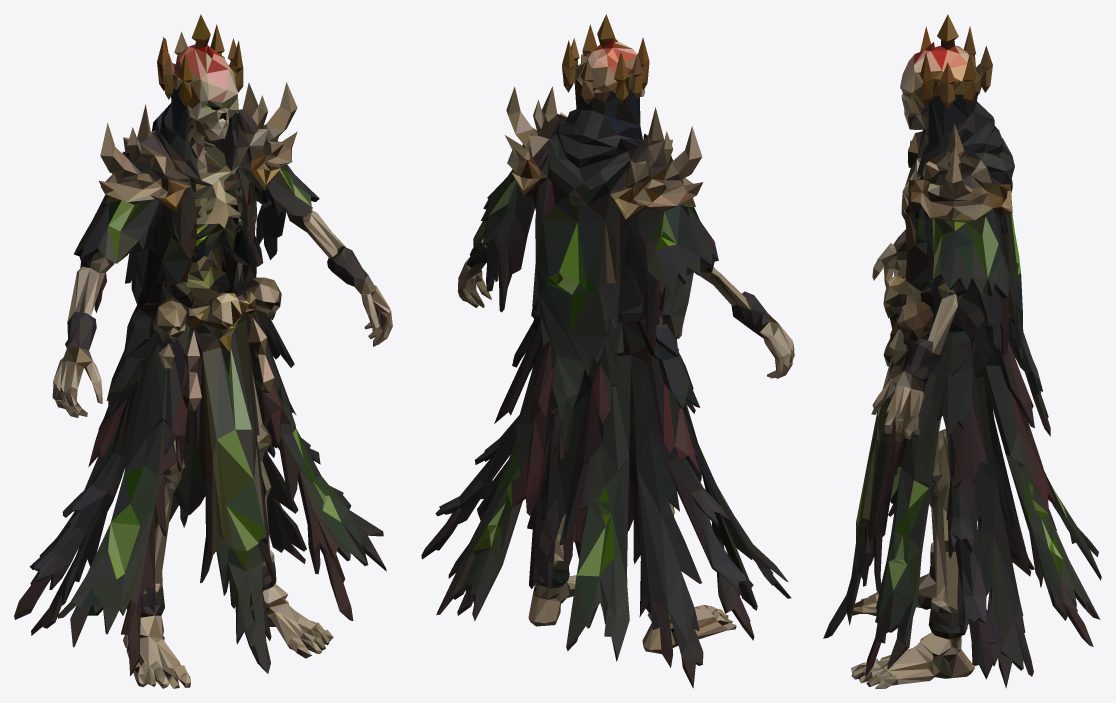
File: necromancer.glb
The picture shows the model from 3 angles, left to right: view 1: azimuth 30°, elevation 25°; view 2: azimuth 150°, elevation 25°; view 3: azimuth 270°, elevation 25°; orthographic projection.
Parts seen in each view (by area): view 1: tripo_node_ee8f3f0f-9149-4181-8950-24065e5e96e1; view 2: tripo_node_ee8f3f0f-9149-4181-8950-24065e5e96e1; view 3: tripo_node_ee8f3f0f-9149-4181-8950-24065e5e96e1.
Part boxes in pixels (bbox=[...]): tripo_node_ee8f3f0f-9149-4181-8950-24065e5e96e1: bbox=[14, 14, 392, 688]; tripo_node_ee8f3f0f-9149-4181-8950-24065e5e96e1: bbox=[421, 14, 794, 688]; tripo_node_ee8f3f0f-9149-4181-8950-24065e5e96e1: bbox=[823, 14, 1101, 688].
Bounding box in the file's own units: 1.35 × 2.4 × 0.9614.
